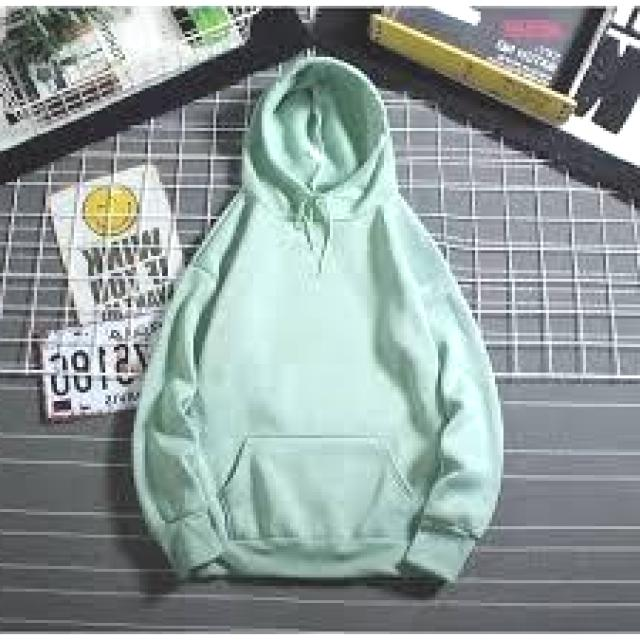sweater: (112, 57, 514, 592)
